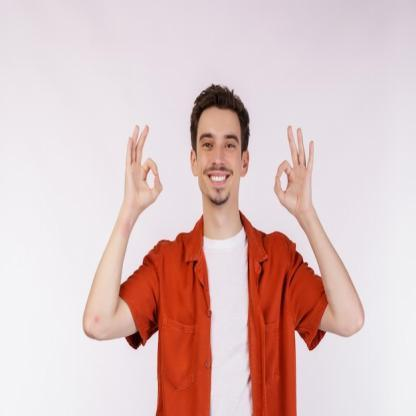ok: (270, 122, 318, 216), (124, 119, 164, 216)
